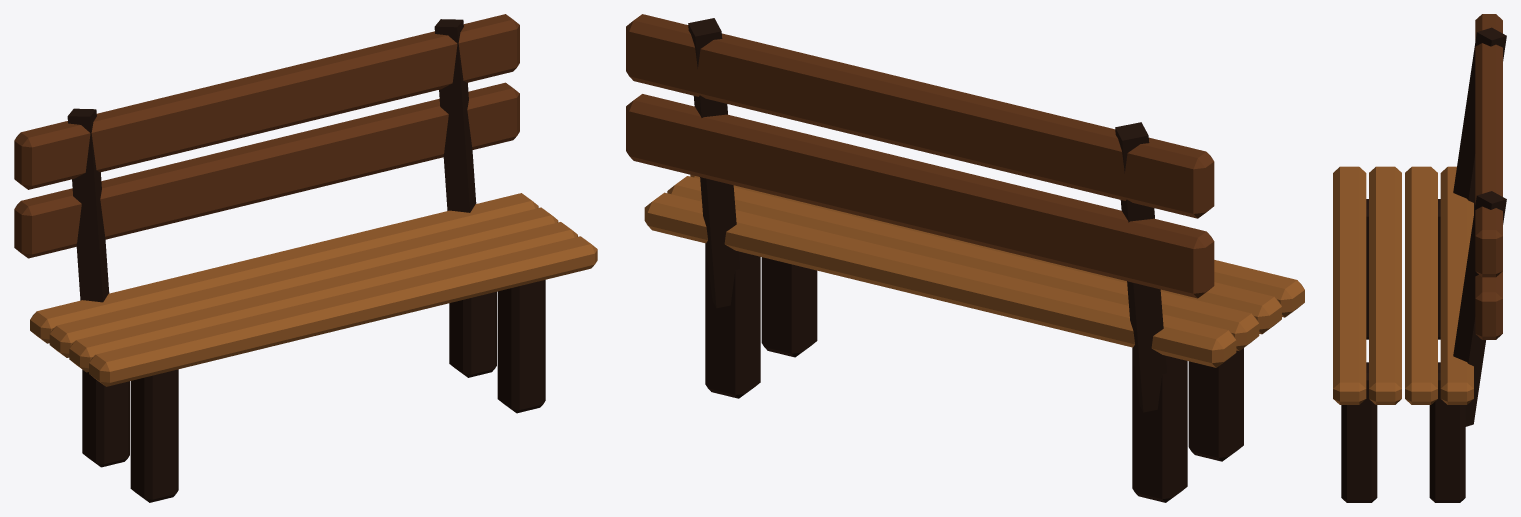
File: Banco_de_madeira_LOD0.fbx
The picture shows the model from 3 angles, left to right: view 1: azimuth 30°, elevation 25°; view 2: azimuth 150°, elevation 25°; view 3: azimuth 270°, elevation 25°; orthographic projection. The views are drawn at different scales.
Visible parts, largest first — view 1: Banco_de_madeira_LOD0; view 2: Banco_de_madeira_LOD0; view 3: Banco_de_madeira_LOD0.
Boxes of the visible parts, box(x1,y1,x2,y2) form: Banco_de_madeira_LOD0: box(14, 14, 597, 502); Banco_de_madeira_LOD0: box(626, 14, 1304, 502); Banco_de_madeira_LOD0: box(1333, 14, 1506, 502).
Size of the model in its own units: 190 by 121 by 62.95.
1 material, 1 textured.
